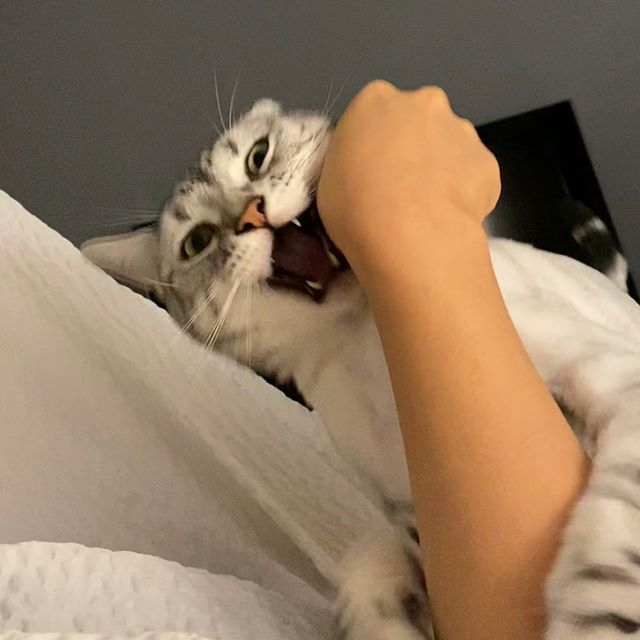cat: (75, 98, 384, 373)
